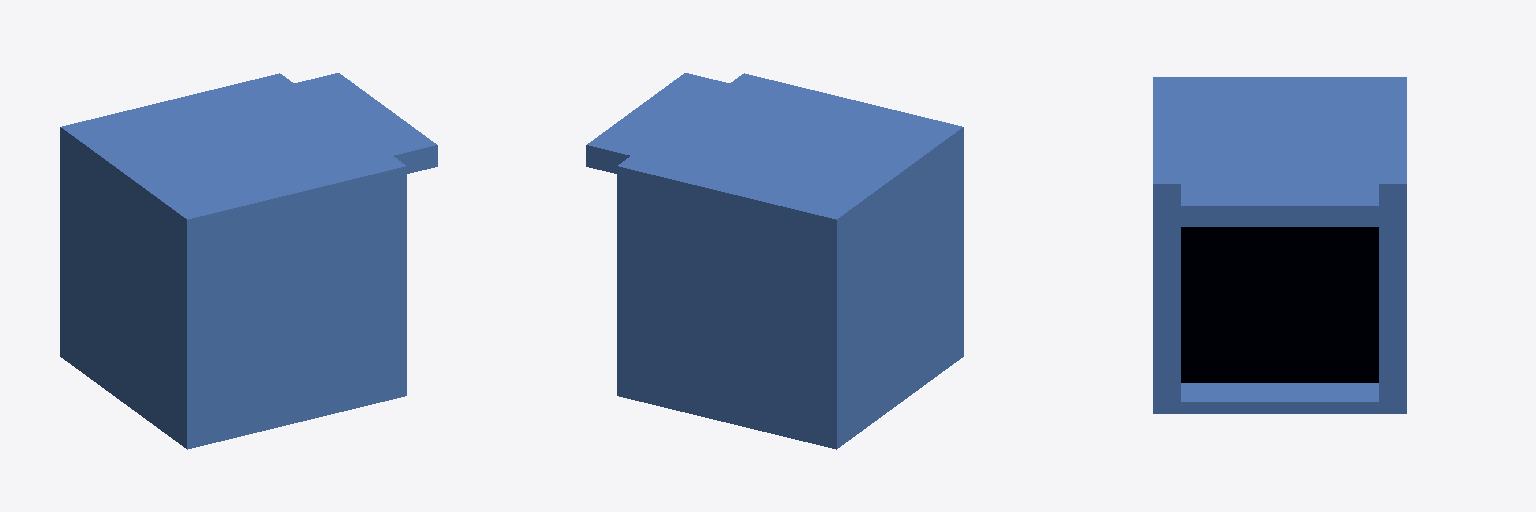
Rendered from tsimpoukh-entrance.001.obj.
The picture shows the model from 3 angles: view 1: azimuth 30°, elevation 25°; view 2: azimuth 150°, elevation 25°; view 3: azimuth 270°, elevation 25°; orthographic projection.
Visible parts, largest first — view 1: tsimpoukh-entrance.001; view 2: tsimpoukh-entrance.001; view 3: tsimpoukh-entrance.001.
Boxes of the visible parts, x1=… form: tsimpoukh-entrance.001: x1=60, y1=73, x2=437, y2=449; tsimpoukh-entrance.001: x1=586, y1=73, x2=963, y2=449; tsimpoukh-entrance.001: x1=1153, y1=77, x2=1406, y2=413.
Bounding box in the file's own units: 3.61 × 3 × 3.